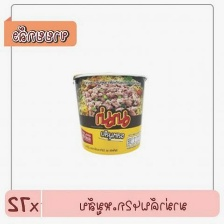paper_cup: (69, 69, 152, 157)
